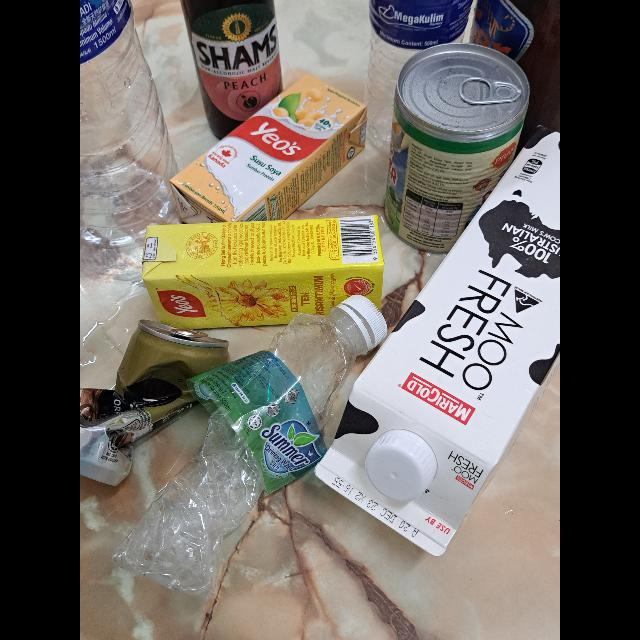aba de lata: (458, 76, 522, 106), (170, 328, 208, 338)
caixinha: (314, 131, 560, 555), (168, 72, 368, 222), (142, 216, 384, 328)
garrafa de vidro: (180, 0, 282, 142), (470, 0, 560, 156)
garrafa plástica: (112, 306, 366, 598), (80, 1, 182, 286), (364, 0, 472, 158)
lata: (384, 44, 530, 252), (80, 319, 232, 489)
tampa plástica: (366, 431, 438, 504), (340, 293, 388, 349)
